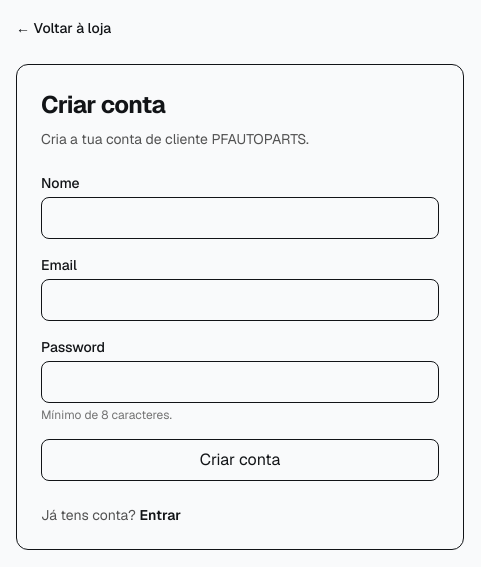
RegisterPage › cria conta através da API e encaminha o utilizador para o login
Type "Buyer Teste" into the field labelled "Nome" at (240, 218), box [41,197,439,239]
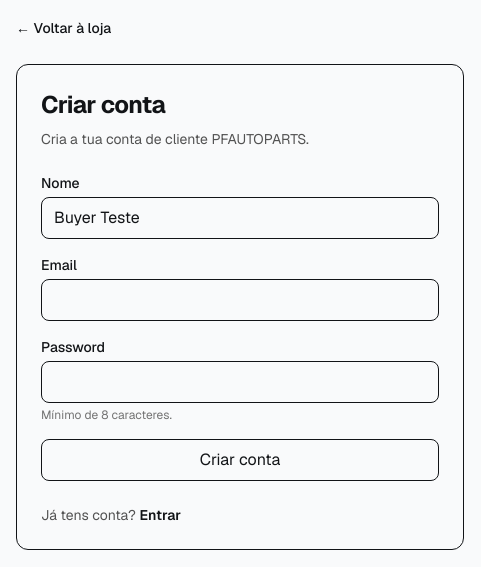
Type "buyer@example.com" into the field labelled "Email" at (240, 300), box [41,279,439,321]
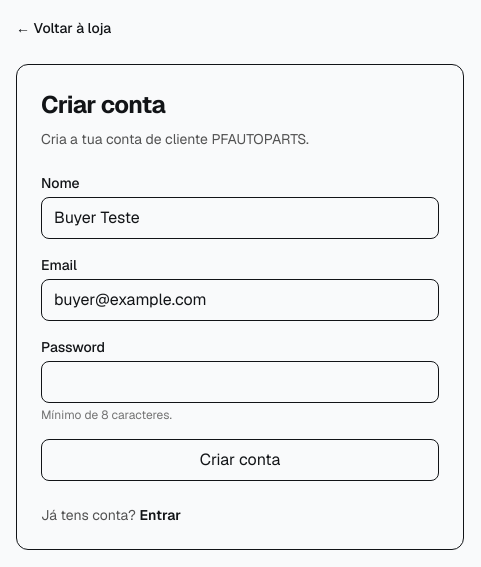
Type "password123" into the password field labelled "Password" at (240, 382), box [41,361,439,403]
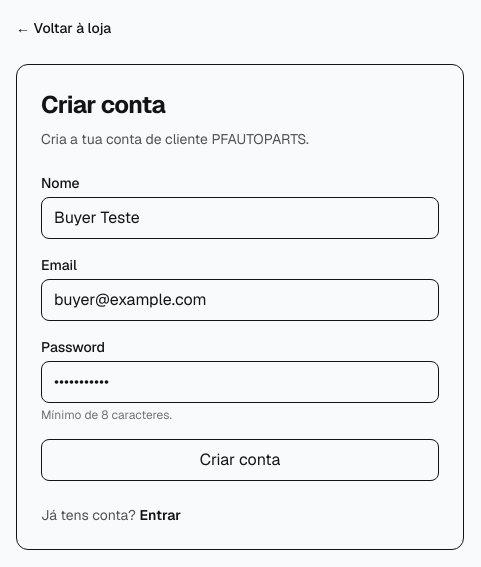
Submit the form "Criar conta", box [41,173,439,481]
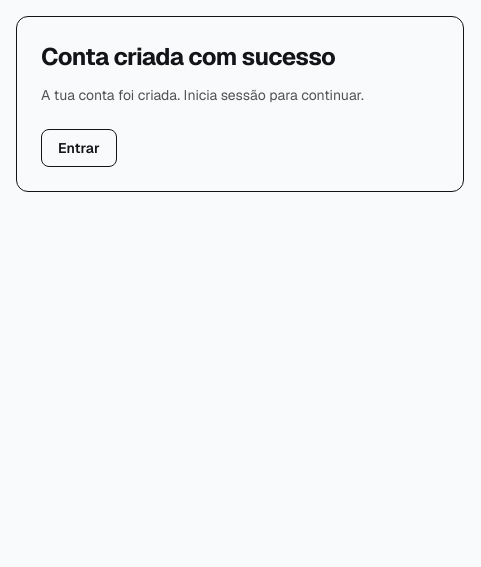
Result: the heading "Conta criada com sucesso" is shown at [41,41,335,72]
Result: the label labelled "Password" is gone
